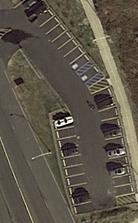parkingspot: (14, 0, 94, 74), (90, 85, 137, 198), (52, 116, 95, 216), (78, 62, 102, 86)
